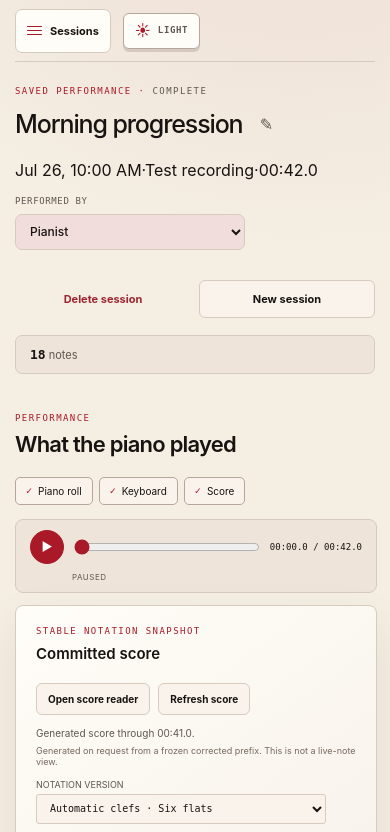
Test: shared application › dismisses mobile session history with Escape
expect the heading "Morning progression" is shown: met, box [15, 110, 242, 138]
Click the button "Sessions" at (63, 30), box [15, 8, 111, 52]
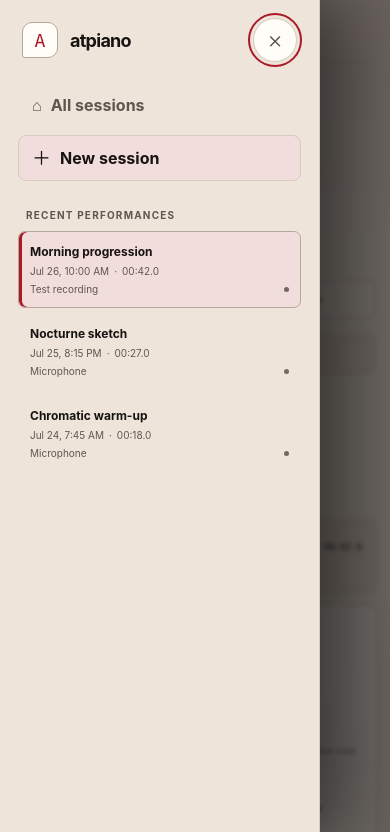
Press Escape
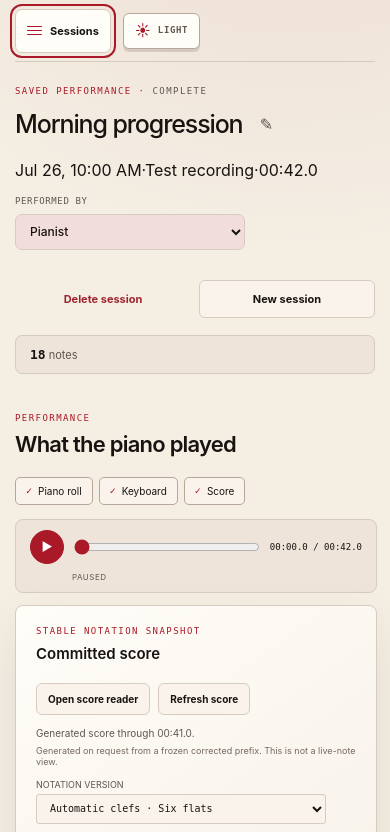
expect the button "Sessions" is collapsed: met, box [15, 8, 111, 52]
